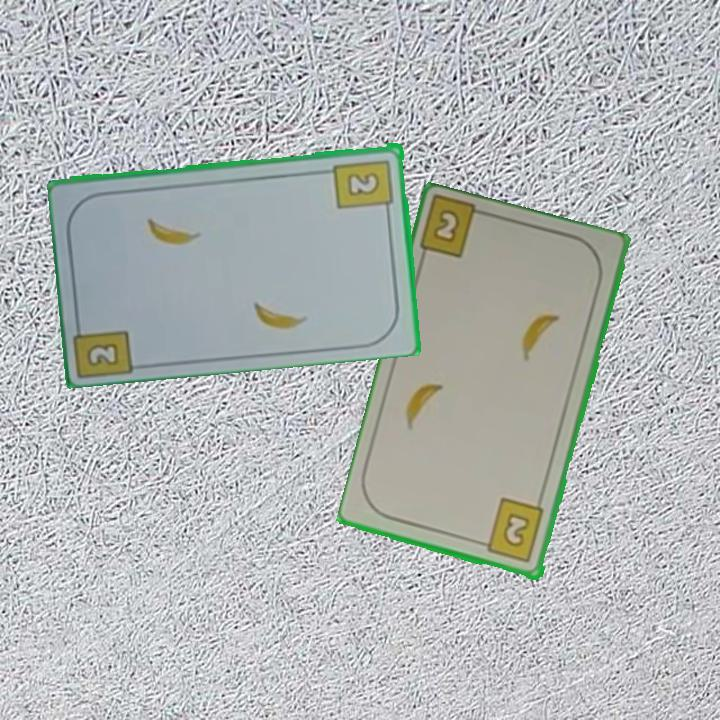2b: (475, 496, 547, 566), (72, 313, 139, 378), (331, 155, 396, 217), (429, 205, 463, 247)
